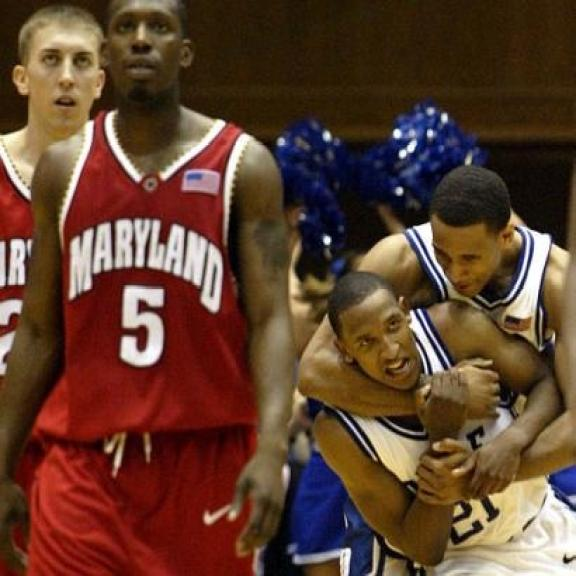face: (99, 6, 198, 109), (13, 27, 106, 131), (336, 289, 425, 393), (432, 210, 516, 301)
